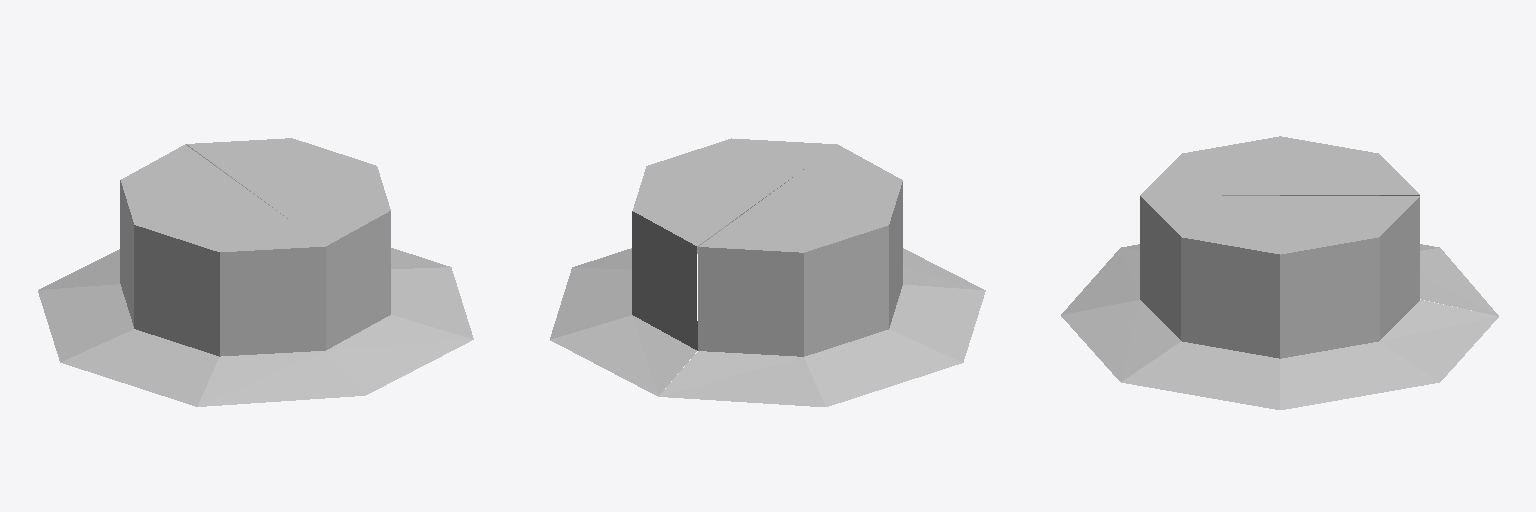
File: Hat.obj
3 views of the same model, side by side, from view 1: azimuth 30°, elevation 25°; view 2: azimuth 150°, elevation 25°; view 3: azimuth 270°, elevation 25° (orthographic).
Visible parts, largest first — view 1: Mesh; view 2: Mesh; view 3: Mesh.
Part boxes in pixels (x1,y1,x2,y2): Mesh: (38,138,473,406); Mesh: (550,138,985,406); Mesh: (1061,136,1498,409).
Size of the model in its own units: 3.23 by 0.9539 by 3.13.